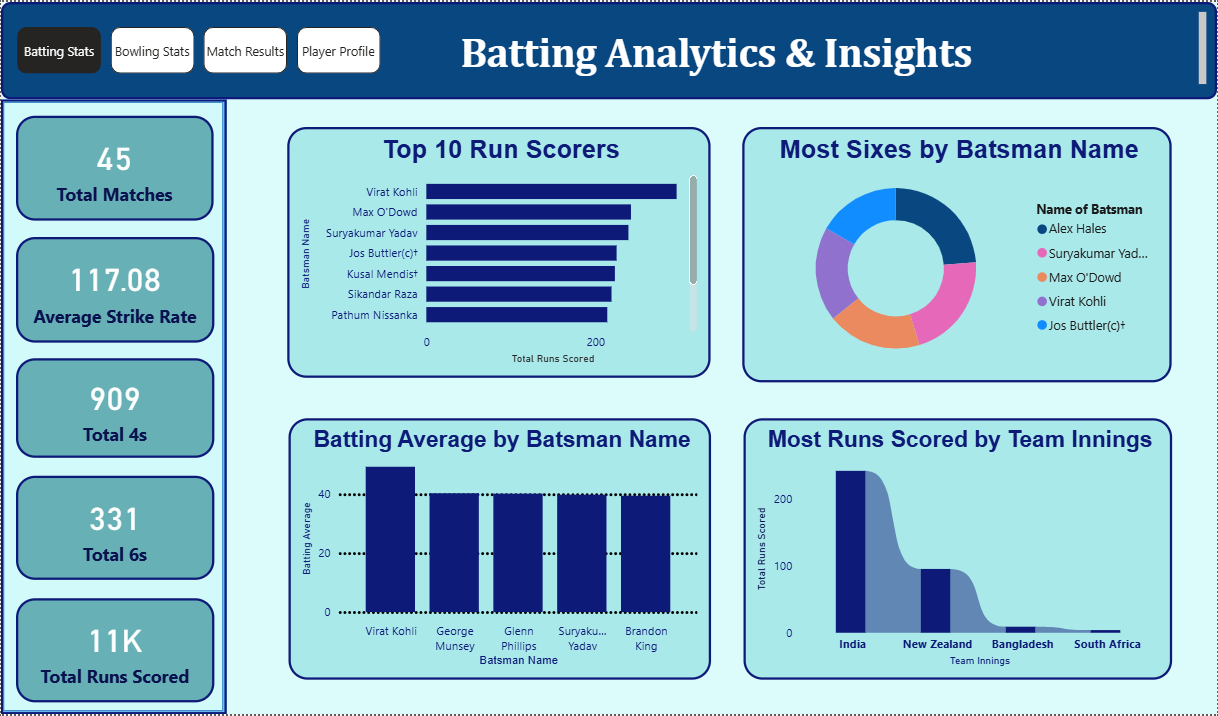

The dashboard page shown, as its layout file describes it:
{"tool":"powerbi","page":{"name":"Batting Stats","canvas":[1280,750],"ordinal":0},"visuals":[{"type":"textbox","box":[0,0,1280,102.5],"z":0},{"type":"shape","box":[0,102.5,237.5,647.5],"z":1000},{"type":"card","fields":{"Values":["Batting_Summary.Total 6s"]},"box":[15.3,499.3,208.9,109.5],"z":2000},{"type":"card","fields":{"Values":["Batting_Summary.Average Strike Rate"]},"box":[15.3,247.1,208.9,110.8],"z":3000},{"type":"card","fields":{"Values":["Batting_Summary.Total 4s"]},"box":[15.3,374.5,208.9,104.5],"z":4000},{"type":"card","fields":{"Values":["Batting_Summary.Total Matches"]},"box":[15.9,119.8,207.9,110.1],"z":5000},{"type":"card","fields":{"Values":["Batting_Summary.Total Runs Scored"]},"box":[15.3,628,208.9,109.5],"z":6000},{"type":"clusteredBarChart","title":"Top 10 Run Scorers","fields":{"Category":["Batting_Summary.batsmanName"],"Y":["Batting_Summary.Total Runs Scored"]},"box":[301.9,131.2,445.8,263.7],"z":7000},{"type":"columnChart","title":"Batting Average by Batsman Name","fields":{"Category":["Batting_Summary.batsmanName"],"Y":["Batting_Summary.Batting Average"]},"box":[302.5,438.8,445,275],"z":8000},{"type":"ribbonChart","title":"Most Runs Scored by Team Innings","fields":{"Y":["Batting_Summary.Total Runs Scored"],"Category":["Batting_Summary.teamInnings"]},"box":[781.2,438.8,451.2,275],"z":9000},{"type":"donutChart","title":"Most Sixes by Batsman Name","fields":{"Category":["Batting_Summary.batsmanName"],"Y":["Batting_Summary.Total 6s"]},"box":[780.8,131.2,452.2,268.8],"z":10000},{"type":"pageNavigator","box":[16.6,26.7,383.4,49.7],"z":11000}]}

Visuals, with their boxes in screenshot pixels (x1, y1, x2, y2), scaled from the page's 1280x750 canvas onto the 1218x716 screenshot:
textbox: (x1=0, y1=0, x2=1217, y2=98)
shape: (x1=0, y1=98, x2=226, y2=715)
card - Batting_Summary.Total 6s: (x1=15, y1=477, x2=213, y2=581)
card - Batting_Summary.Average Strike Rate: (x1=15, y1=236, x2=213, y2=342)
card - Batting_Summary.Total 4s: (x1=15, y1=358, x2=213, y2=457)
card - Batting_Summary.Total Matches: (x1=15, y1=114, x2=213, y2=219)
card - Batting_Summary.Total Runs Scored: (x1=15, y1=600, x2=213, y2=704)
"Top 10 Run Scorers" clusteredBarChart: (x1=287, y1=125, x2=711, y2=377)
"Batting Average by Batsman Name" columnChart: (x1=288, y1=419, x2=711, y2=681)
"Most Runs Scored by Team Innings" ribbonChart: (x1=743, y1=419, x2=1173, y2=681)
"Most Sixes by Batsman Name" donutChart: (x1=743, y1=125, x2=1173, y2=382)
pageNavigator: (x1=16, y1=25, x2=381, y2=73)
